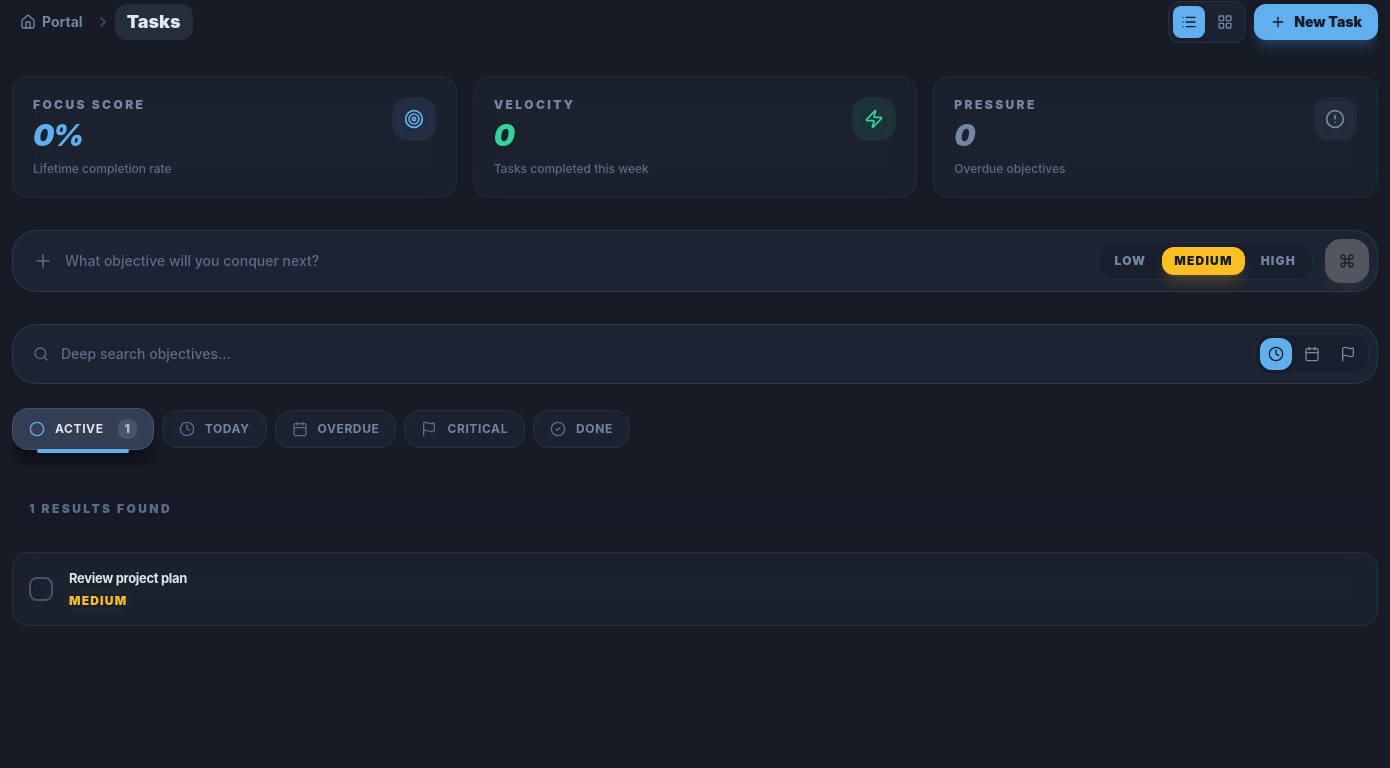
Test: TodoAdminView › keeps loaded objectives available when a recovery refresh fails
Click the button named "Mark as complete": (41, 589) [29, 577, 53, 601]
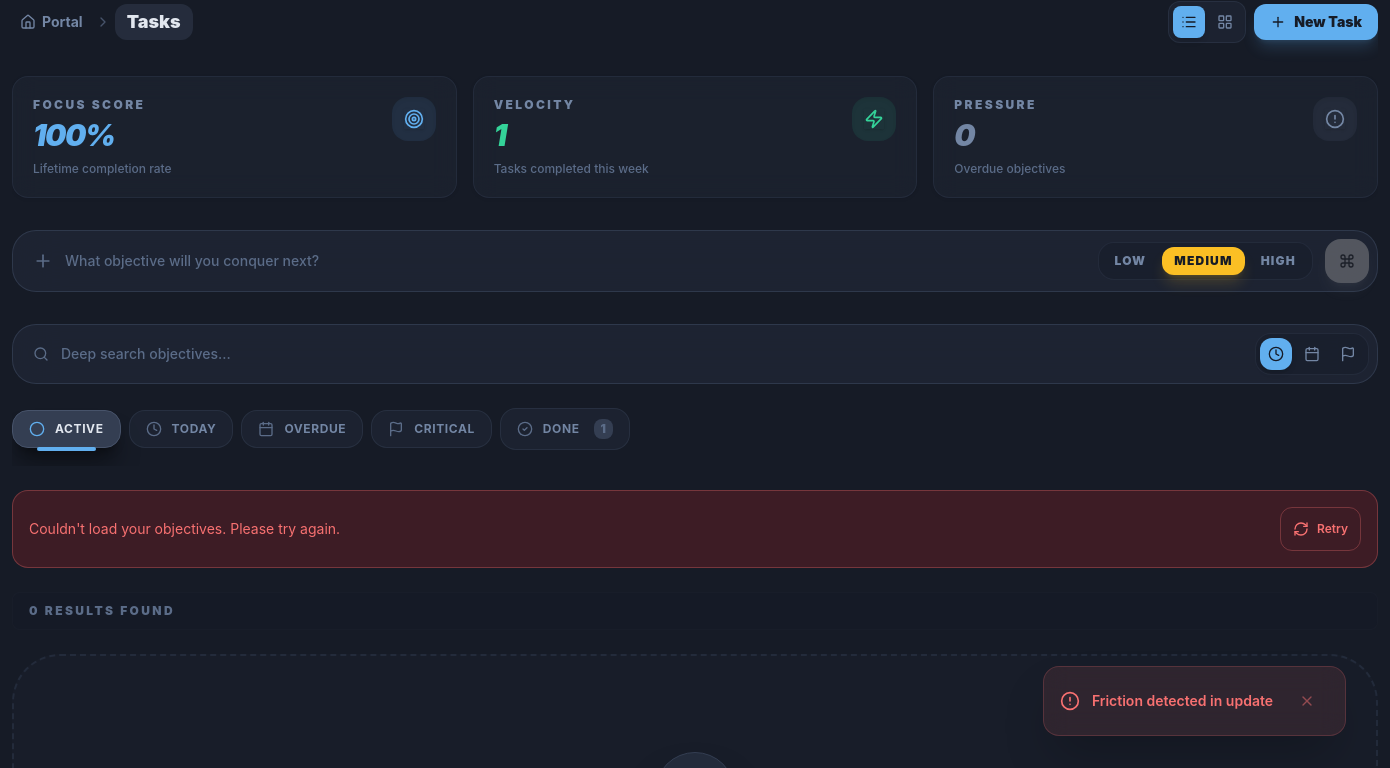
Expected: the message "Couldn't load your objectives. Please try again. Retry" is shown, [12, 490, 1378, 568]
Click the button with aria-label "done filter": (565, 429) [500, 408, 630, 450]
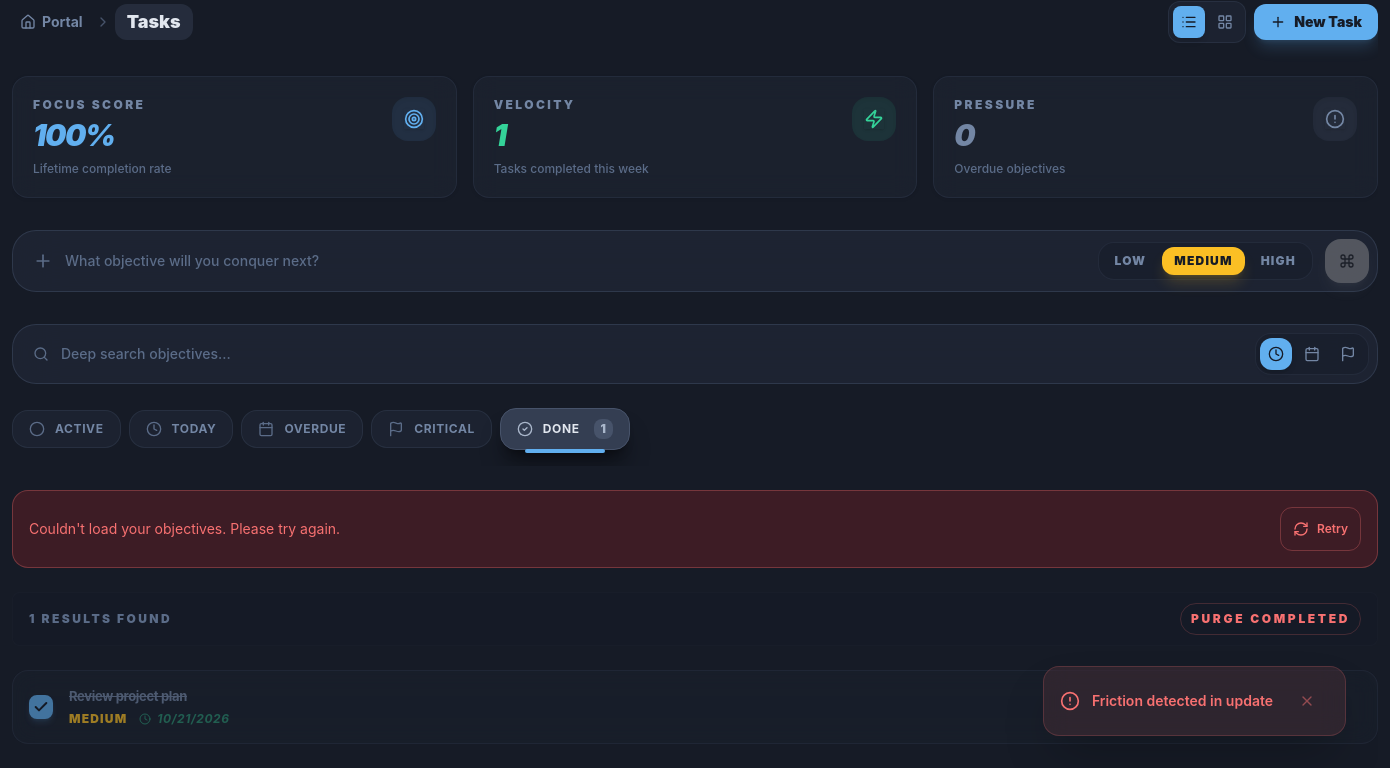
Expected: the heading "Review project plan" is shown, [69, 688, 187, 704]
